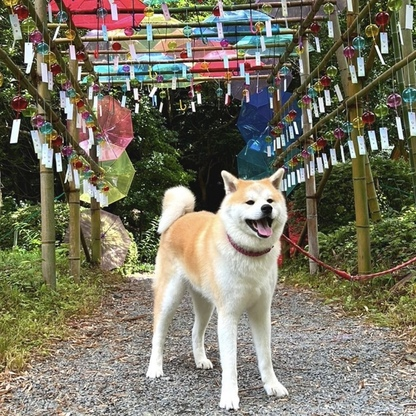akita: (140, 165, 303, 412)
